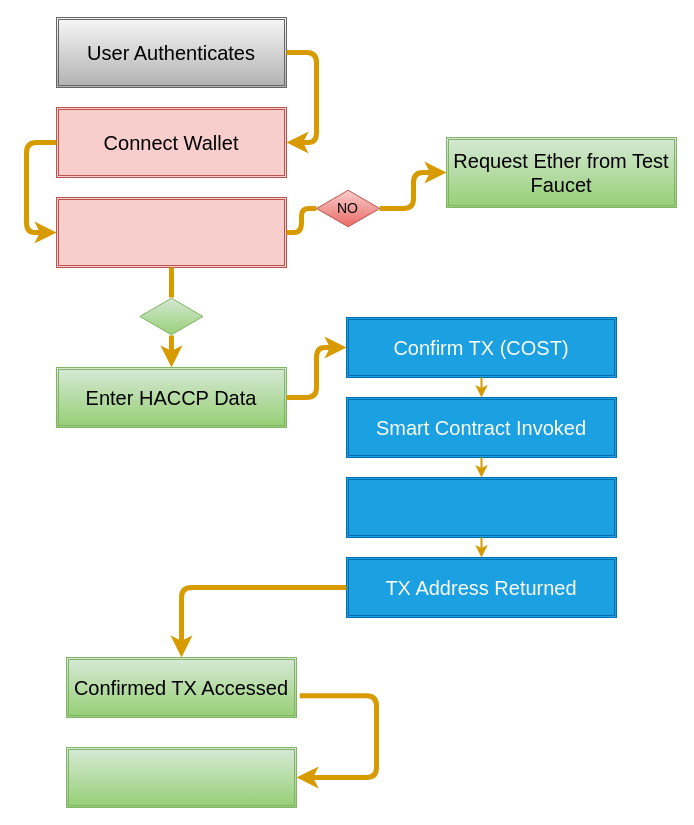
This 694x825 diagram has some shape labels left out. The shapes that lost their labels are listed below. From the top down, each one's centre as x and y in pixels, then its label:
point 171,232: Have Ether?
point 171,316: YES
point 481,507: Committed to Blockchain
point 181,777: TX Sent to IoT Central
